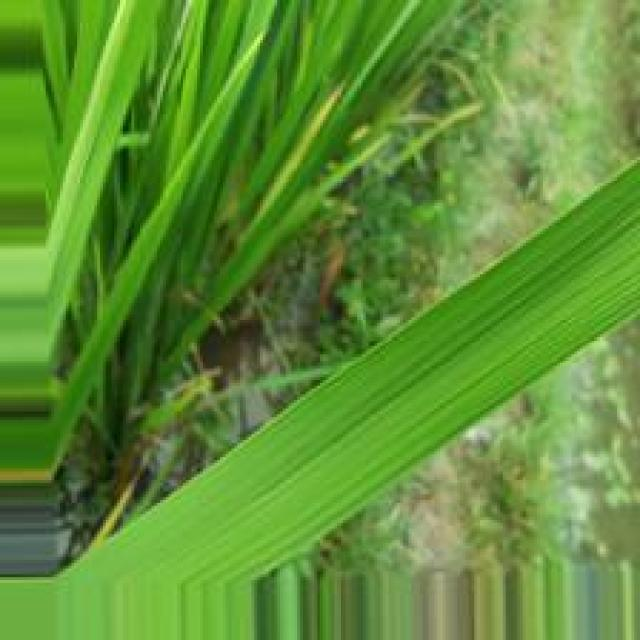HealthyLeaf: (73, 172, 637, 580)
